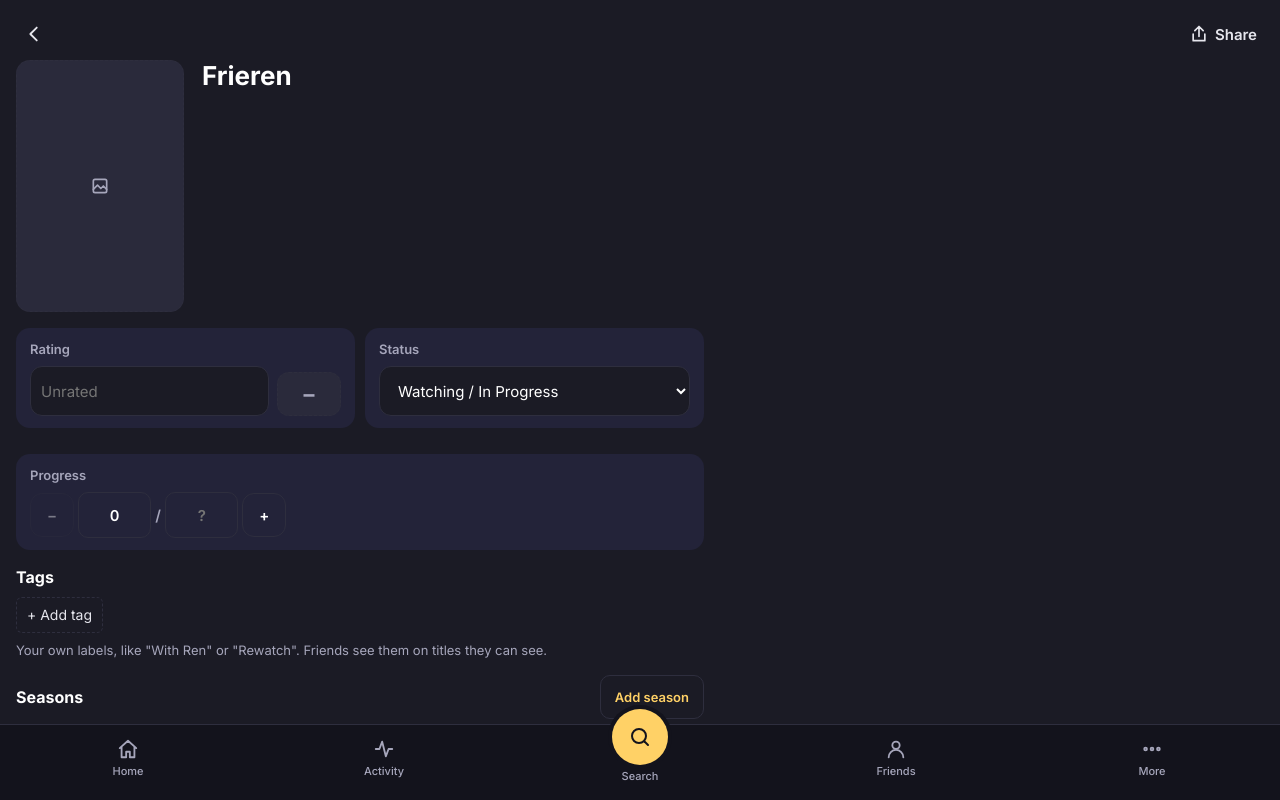
Scenario: rate on complete › title page: Completed on an unrated title opens the sheet; Save rating uses the normal save
The image size is (1280, 800).
Select "Completed" in the dropdown labelled "Status". click: (534, 391)
box: top-left (379, 366), bottom-right (690, 416)
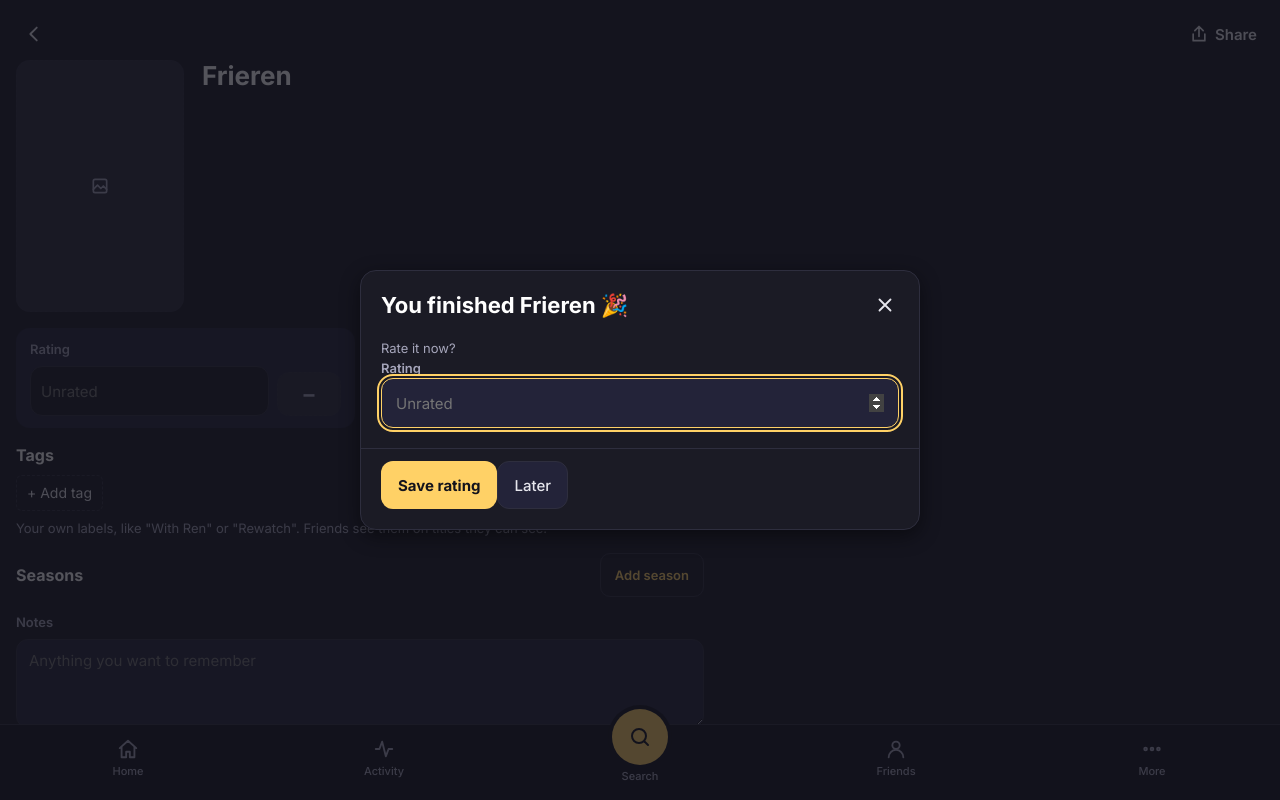
Expected: the text "Rate it now?" is shown, top-left (381, 340), bottom-right (456, 356)
Type "9.4" into the number field labelled "Rating". click: (640, 403)
box: top-left (381, 378), bottom-right (899, 428)
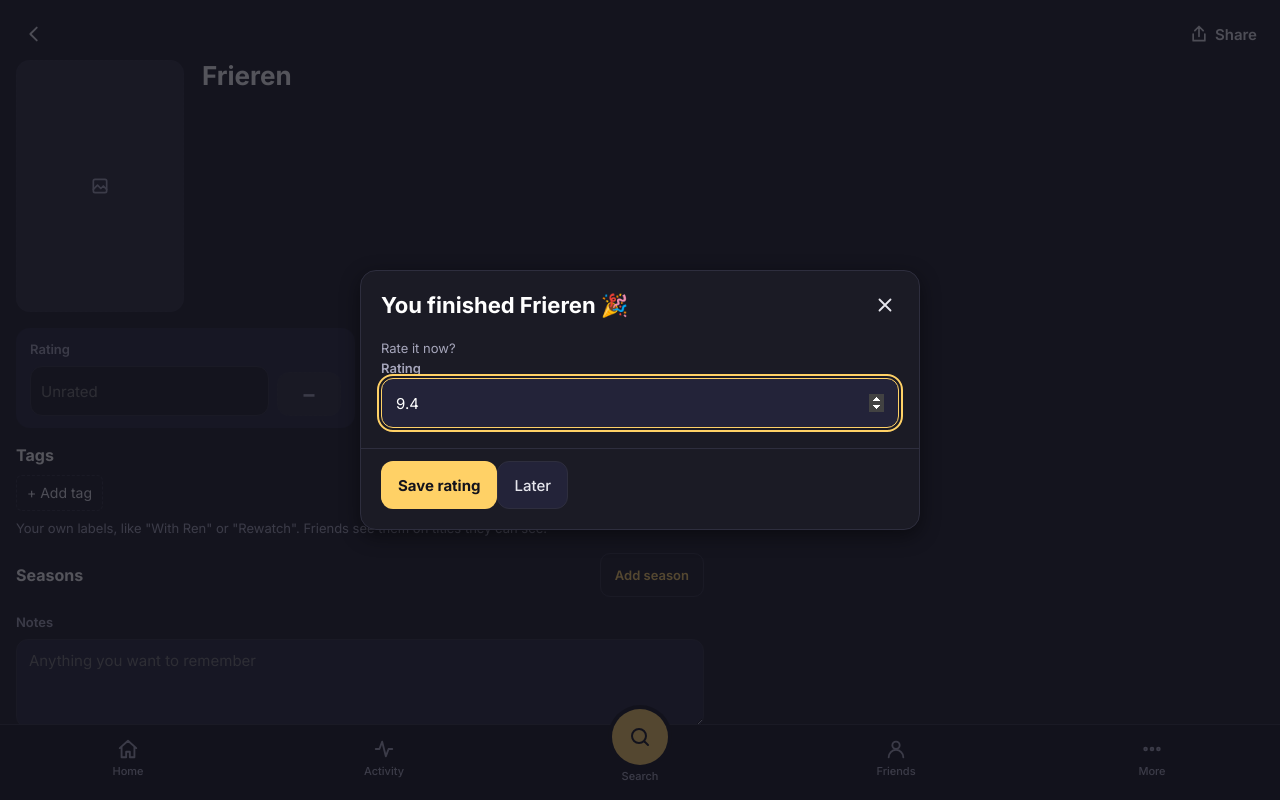
Click the button "Save rating". click: (439, 485)
box: top-left (381, 461), bottom-right (498, 509)
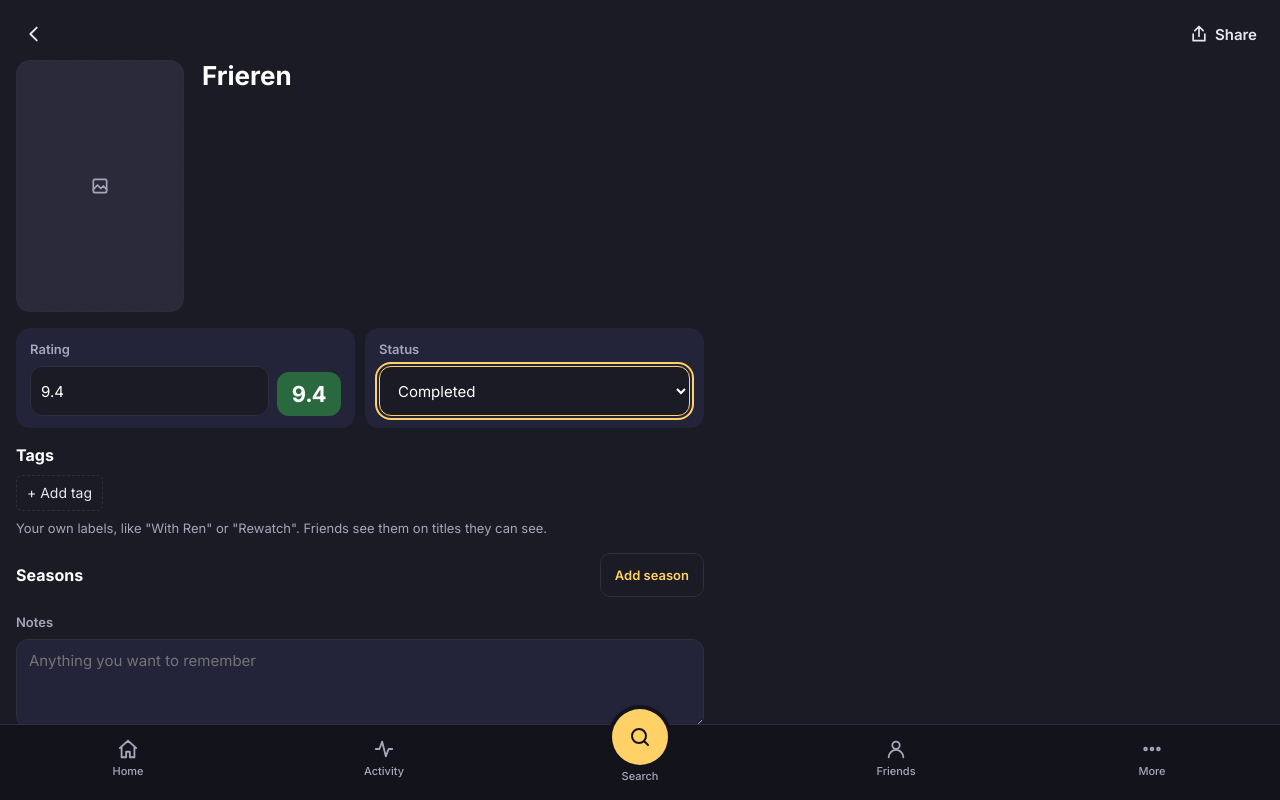
Expected: the heading "You finished" is gone
